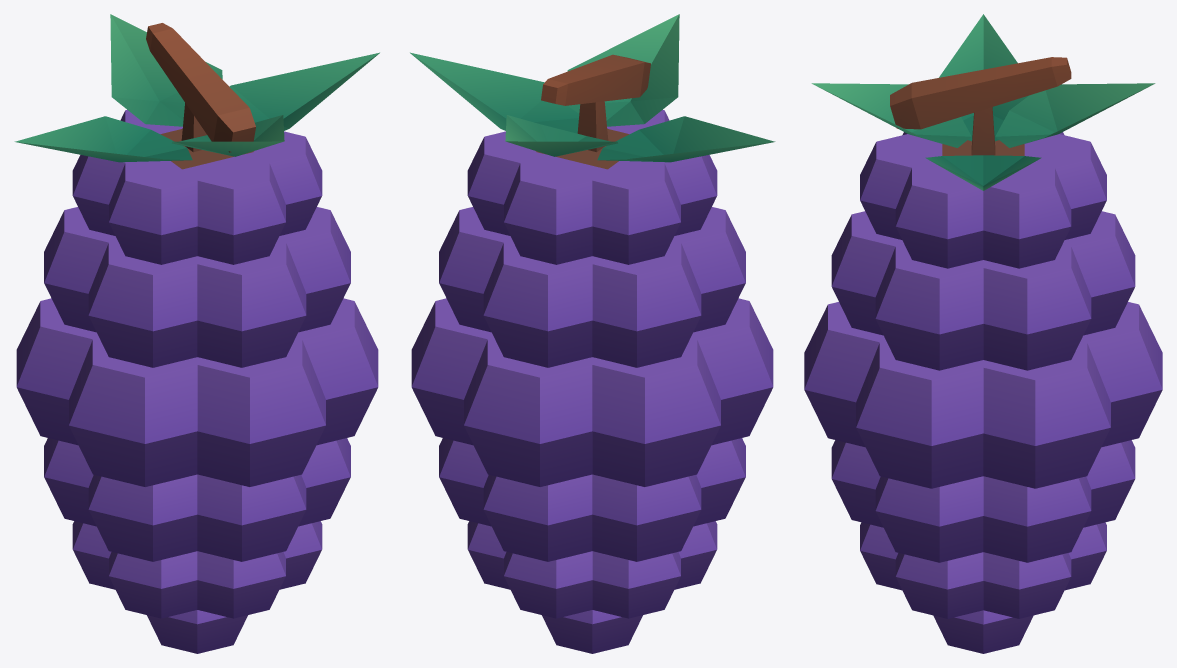
Rendered from grapes.glb.
The picture shows the model from 3 angles, left to right: view 1: azimuth 30°, elevation 25°; view 2: azimuth 150°, elevation 25°; view 3: azimuth 270°, elevation 25°; orthographic projection.
Parts seen in each view (by area): view 1: geometry_0; view 2: geometry_0; view 3: geometry_0.
Boxes of the visible parts, x1,y1,x2,y2 form: geometry_0: [14, 14, 379, 653]; geometry_0: [410, 14, 775, 653]; geometry_0: [804, 14, 1162, 653].
Bounding box in the file's own units: 0.5479 × 0.83 × 0.4686.
